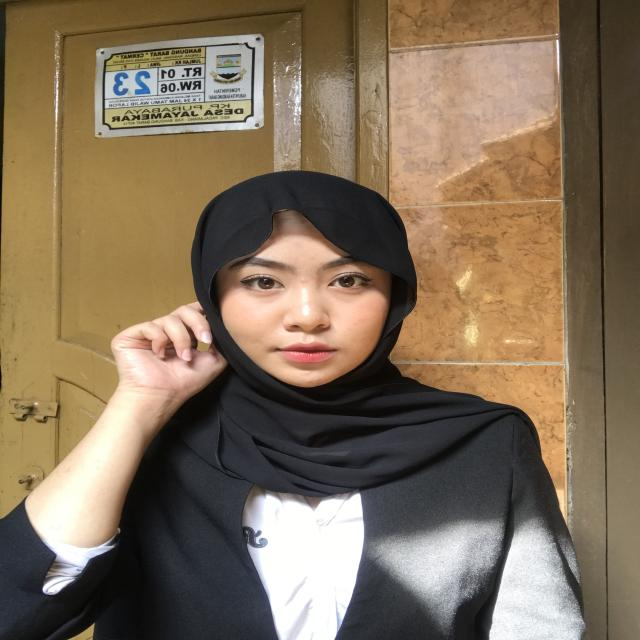ibu: (113, 288, 240, 466)
